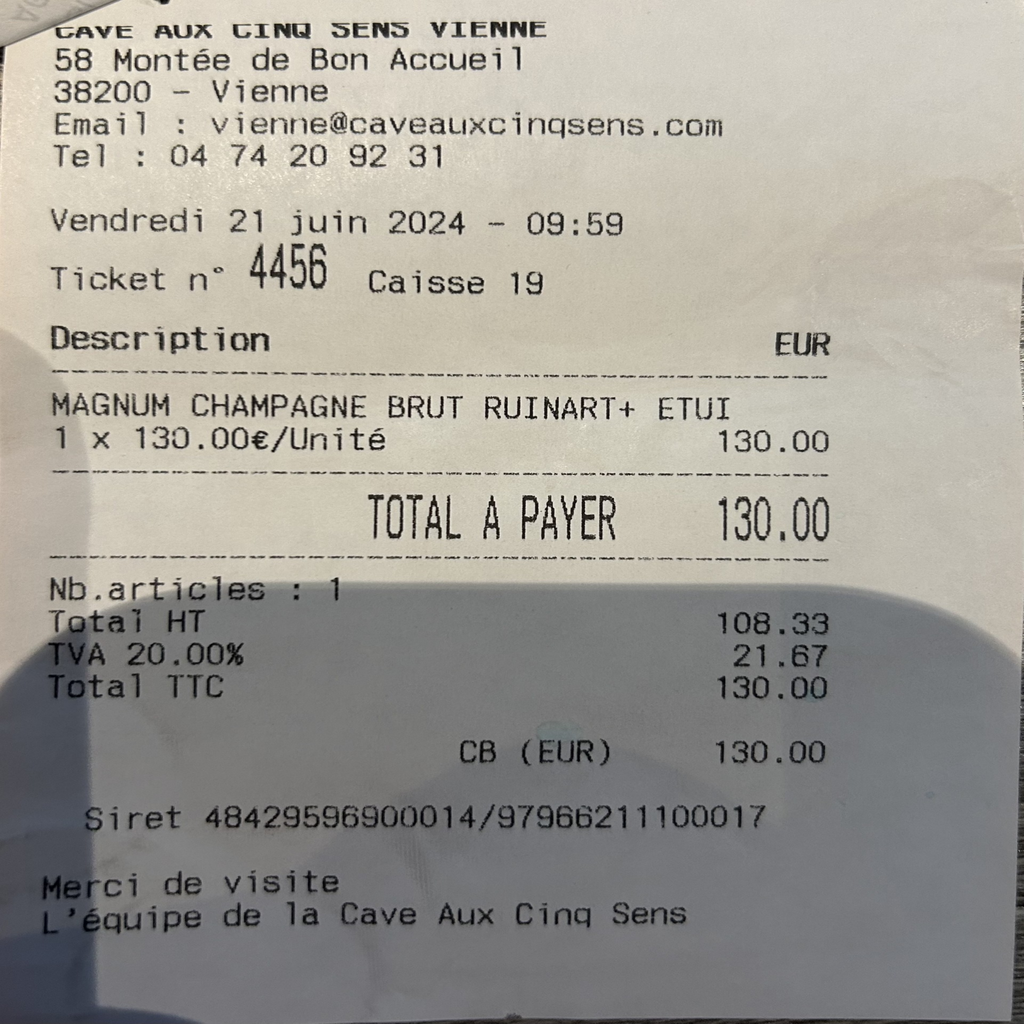recipt: (6, 0, 1014, 1020)
